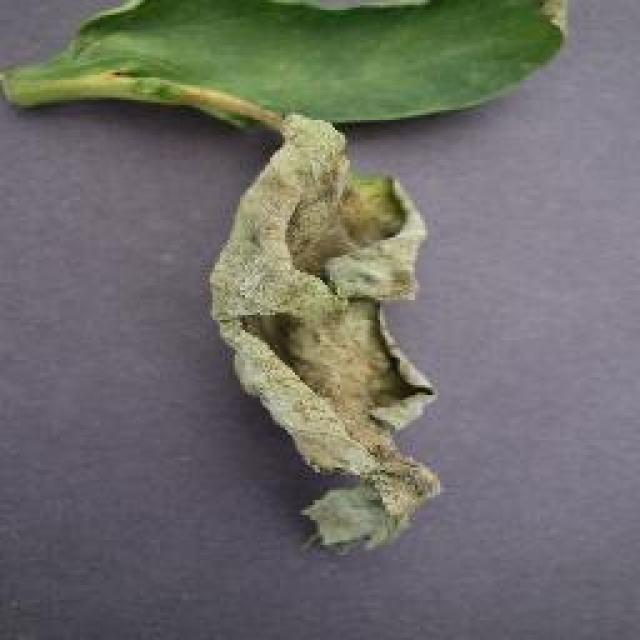Tomato___Late_blight: (0, 0, 570, 560)
